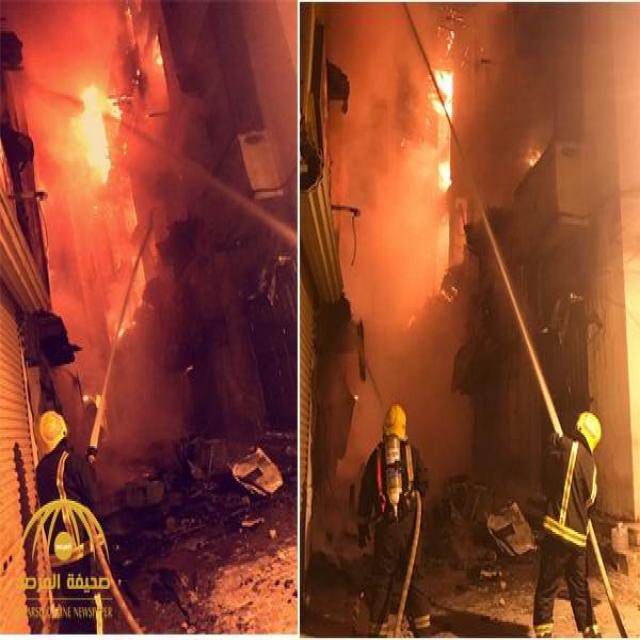Fire: (31, 82, 110, 351), (418, 44, 452, 194)
Smoke: (298, 4, 583, 620)
